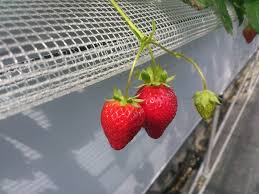ripe: (134, 78, 178, 141), (101, 94, 146, 155), (241, 20, 257, 46)
unripe: (193, 85, 220, 128)
